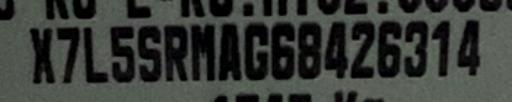letter: (213, 22, 245, 82), (454, 17, 484, 79), (401, 19, 431, 79), (322, 18, 350, 78), (242, 20, 270, 80), (162, 22, 190, 82), (296, 20, 324, 78), (82, 26, 110, 82), (428, 17, 454, 77), (350, 18, 376, 78), (136, 22, 162, 82), (110, 22, 136, 82), (56, 23, 82, 83), (28, 24, 54, 84), (191, 23, 217, 81), (376, 20, 402, 76), (271, 21, 295, 81)
